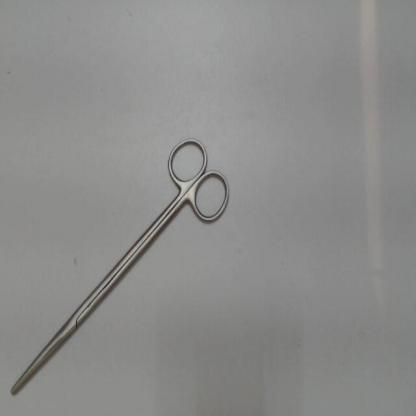9 Metzenbaum Scissors: (7, 130, 239, 403)
